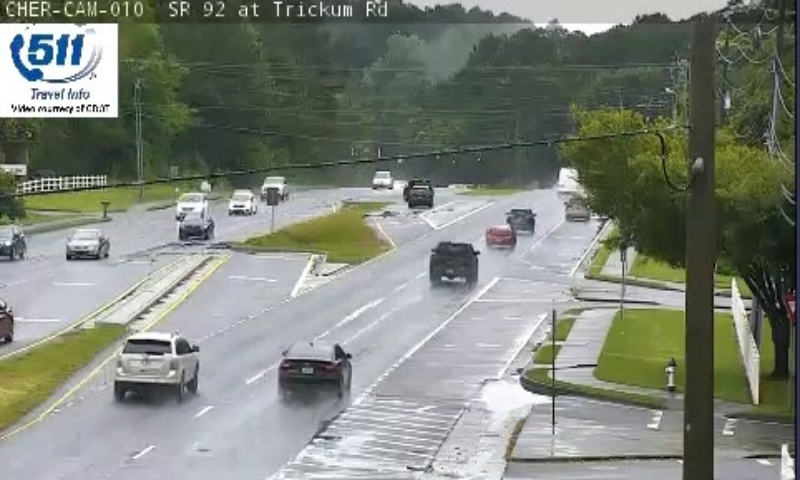car: (116, 333, 199, 387), (278, 341, 350, 384), (429, 241, 476, 281), (485, 223, 515, 249), (507, 207, 534, 234)
